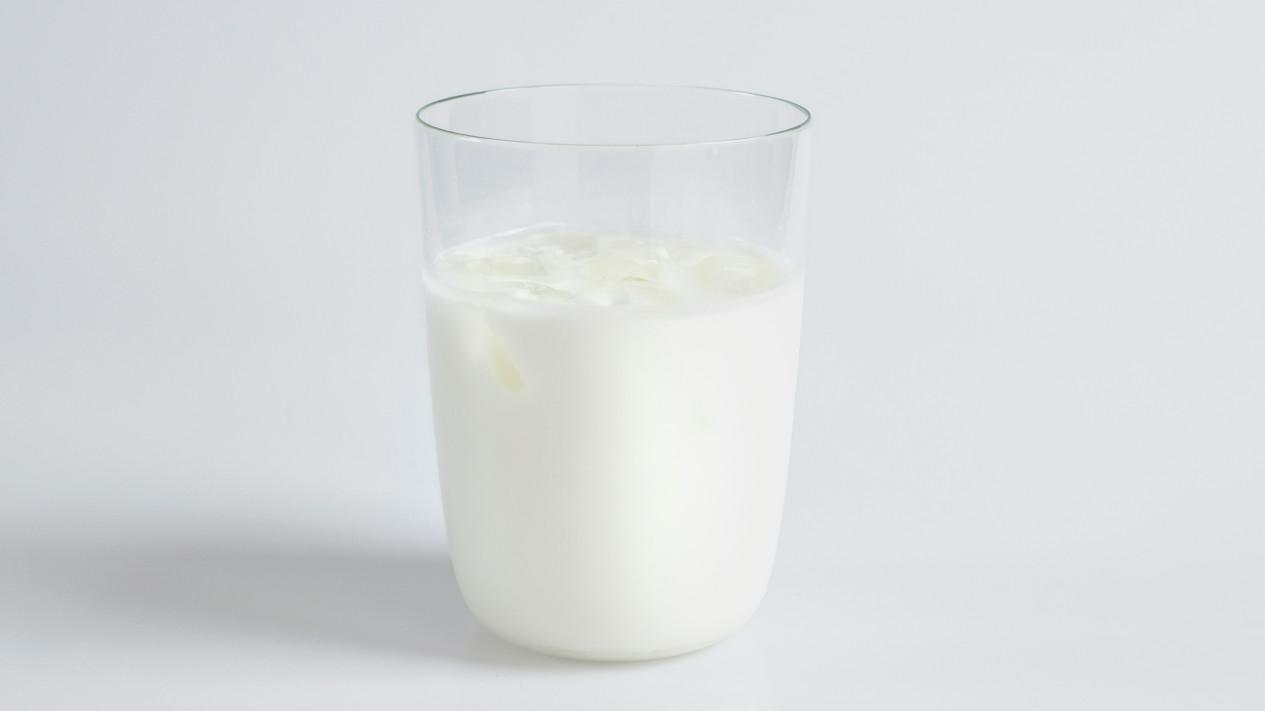produk_susu: (483, 100, 764, 622)
